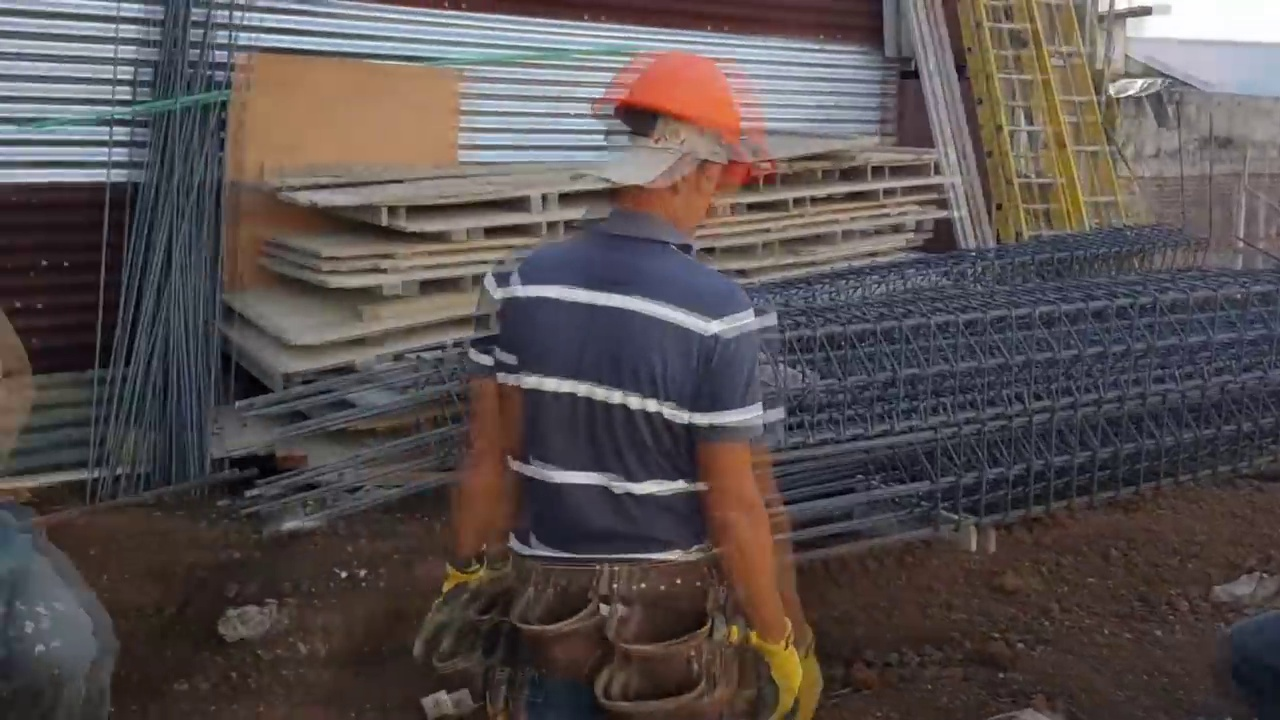helmet: (595, 51, 762, 185)
helmet-on: (581, 43, 779, 250)
person: (440, 55, 841, 720)
